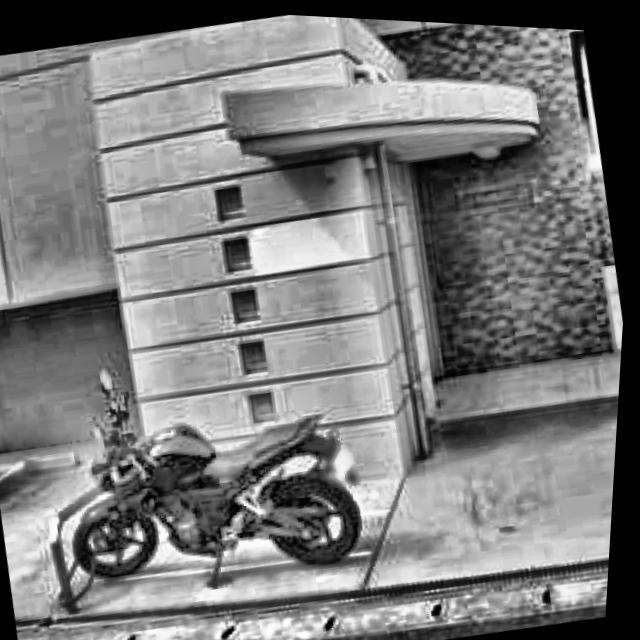motorcycle: (39, 306, 407, 628)
